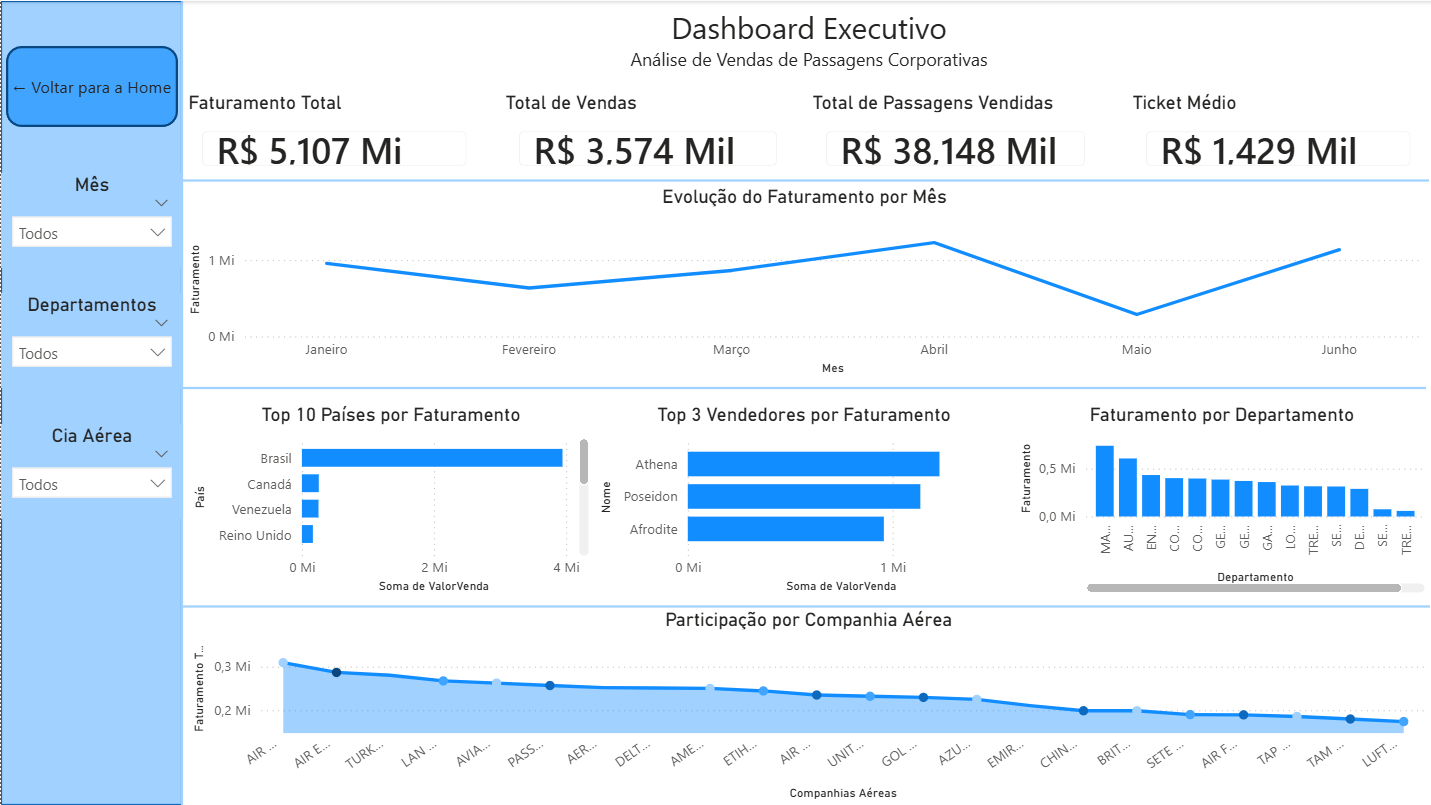

What the dashboard file says about the page in this screenshot:
{"tool":"powerbi","page":{"name":"Dashboard Executivo","canvas":[1280,720],"ordinal":1},"visuals":[{"type":"cardVisual","title":"Faturamento Total","fields":{"Data":["dados_tratado._faturamento_total"]},"box":[163,80.6,271.3,84.2],"z":0},{"type":"shape","box":[0,0,162.1,720],"z":1000},{"type":"cardVisual","title":"Total de Vendas","fields":{"Data":["dados_tratado._total_vendas"]},"box":[446.9,80.6,266,84.2],"z":2000},{"type":"cardVisual","title":"Total de Passagens Vendidas","fields":{"Data":["dados_tratado._total_passagens_vendidas"]},"box":[721.8,80.6,266.9,84.2],"z":3000},{"type":"cardVisual","title":"Ticket Médio","fields":{"Data":["dados_tratado._Ticket_Medio"]},"box":[1008.4,80.6,271.3,84.2],"z":4000},{"type":"textbox","box":[167.5,0,1112.2,80.6],"z":5000},{"type":"lineChart","title":"Evolução do Faturamento por Mês","fields":{"Category":["dados_tratado.Mes"],"Y":["Sum(dados_tratado.ValorVenda)"]},"box":[163,164.8,1113.1,174.6],"z":6000},{"type":"barChart","title":"Top 10 Países por Faturamento","fields":{"Category":["dados_tratado.País"],"Y":["Sum(dados_tratado.ValorVenda)"]},"box":[167.5,360,363.6,174.6],"z":7000},{"type":"barChart","title":"Top 3 Vendedores por Faturamento","fields":{"Category":["dados_tratado.Nome"],"Y":["Sum(dados_tratado.ValorVenda)"]},"box":[531,360,376.1,174.6],"z":8000},{"type":"stackedAreaChart","title":"Participação por Companhia Aérea","fields":{"Category":["dados_tratado.CiaAérea"],"Y":["dados_tratado._faturamento_total"]},"box":[166.3,543.7,1113.7,176],"z":9000},{"type":"columnChart","title":"Faturamento por Departamento","fields":{"Category":["dados_tratado.Departamento"],"Y":["Sum(dados_tratado.ValorVenda)"]},"box":[907.2,360,372.5,174.6],"z":10000},{"type":"shape","box":[156.7,0,10.7,720],"z":11000},{"type":"shape","box":[161.2,154,1117.6,13.4],"z":12000},{"type":"shape","box":[159.4,339.4,1116.7,14.3],"z":13000},{"type":"shape","box":[162.1,534.6,1117.6,15.2],"z":14000},{"type":"slicer","title":"Departamentos","fields":{"Values":["dados_tratado.Departamento"]},"box":[0,261.5,163,85.1],"z":15000},{"type":"slicer","title":"Mês","fields":{"Values":["dados_tratado.Mes"]},"box":[0,154,163,85.1],"z":16000},{"type":"slicer","title":"Cia Aérea","fields":{"Values":["dados_tratado.CiaAérea"]},"box":[0,378.8,163,85.1],"z":17000},{"type":"actionButton","box":[4.5,40.3,154,72.5],"z":18000}]}

Visuals, with their boxes in screenshot pixels (x1, y1, x2, y2), scaled from the page's 1280x720 canvas onto the 1431x805 screenshot:
"Faturamento Total" cardVisual: pyautogui.locateOnScreen(182, 90, 486, 184)
shape: pyautogui.locateOnScreen(0, 0, 181, 804)
"Total de Vendas" cardVisual: pyautogui.locateOnScreen(500, 90, 797, 184)
"Total de Passagens Vendidas" cardVisual: pyautogui.locateOnScreen(807, 90, 1105, 184)
"Ticket Médio" cardVisual: pyautogui.locateOnScreen(1127, 90, 1430, 184)
textbox: pyautogui.locateOnScreen(187, 0, 1430, 90)
"Evolução do Faturamento por Mês" lineChart: pyautogui.locateOnScreen(182, 184, 1427, 379)
"Top 10 Países por Faturamento" barChart: pyautogui.locateOnScreen(187, 402, 594, 598)
"Top 3 Vendedores por Faturamento" barChart: pyautogui.locateOnScreen(594, 402, 1014, 598)
"Participação por Companhia Aérea" stackedAreaChart: pyautogui.locateOnScreen(186, 608, 1430, 804)
"Faturamento por Departamento" columnChart: pyautogui.locateOnScreen(1014, 402, 1430, 598)
shape: pyautogui.locateOnScreen(175, 0, 187, 804)
shape: pyautogui.locateOnScreen(180, 172, 1430, 187)
shape: pyautogui.locateOnScreen(178, 379, 1427, 395)
shape: pyautogui.locateOnScreen(181, 598, 1430, 615)
"Departamentos" slicer: pyautogui.locateOnScreen(0, 292, 182, 388)
"Mês" slicer: pyautogui.locateOnScreen(0, 172, 182, 267)
"Cia Aérea" slicer: pyautogui.locateOnScreen(0, 424, 182, 519)
actionButton: pyautogui.locateOnScreen(5, 45, 177, 126)
